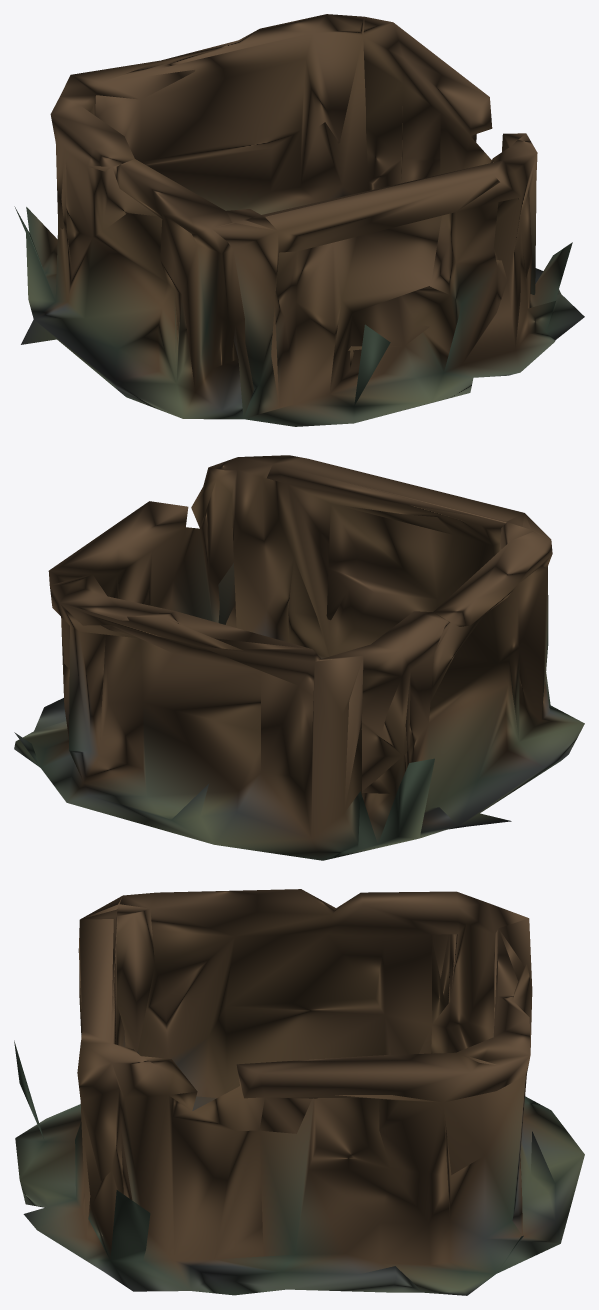
Rendered from gen3d-sunken-crate-lod1.glb.
3 views of the same model, one above another, from view 1: azimuth 30°, elevation 25°; view 2: azimuth 150°, elevation 25°; view 3: azimuth 270°, elevation 25° (orthographic). The views are drawn at different scales.
Visible parts, largest first — view 1: part_0; view 2: part_0; view 3: part_0.
Boxes of the visible parts, x1,y1,x2,y2 form: part_0: (14,14,584,426); part_0: (14,455,584,860); part_0: (14,889,584,1295).
Size of the model in its own units: 2.38 by 0.9861 by 2.38.
